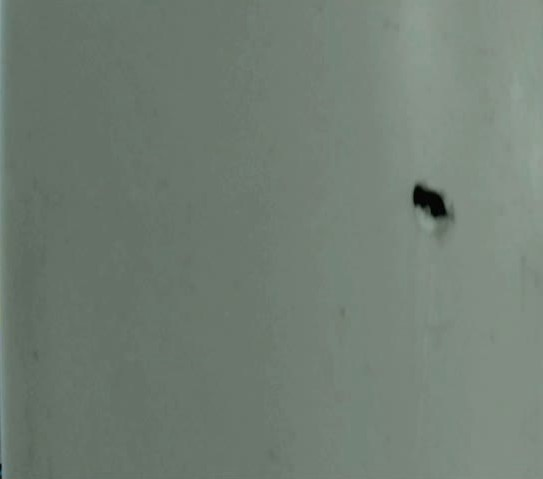kongdong: (406, 174, 457, 233)
